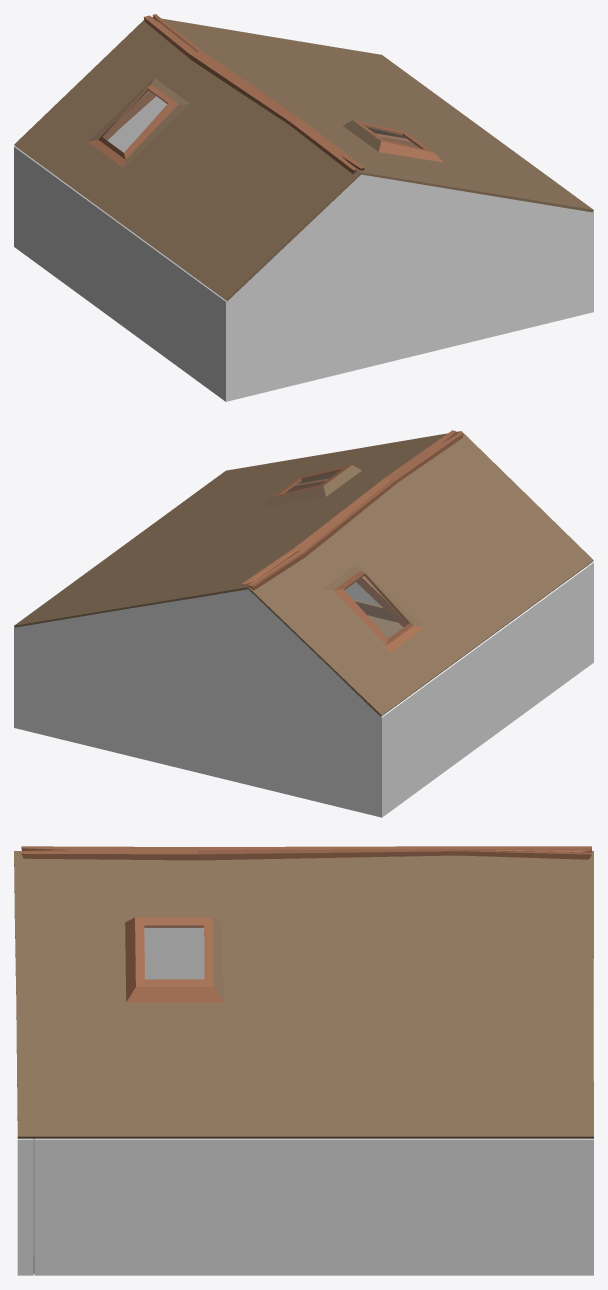
Rendered from House.fbx.
3 views of the same model, one above another, from view 1: azimuth 30°, elevation 25°; view 2: azimuth 150°, elevation 25°; view 3: azimuth 270°, elevation 25° (orthographic). The views are drawn at different scales.
Parts seen in each view (by area): view 1: Roof, Walls; view 2: Roof, Walls, floor; view 3: Roof, Walls.
Part boxes in pixels (x1,y1,x2,y2): Roof: (14, 14, 593, 301); Walls: (14, 96, 593, 401); Roof: (14, 430, 593, 716); Walls: (14, 562, 593, 817); floor: (352, 598, 403, 638); Roof: (14, 846, 593, 1138); Walls: (17, 928, 593, 1275).
Bounding box in the file's own units: 573 × 302 × 576.
